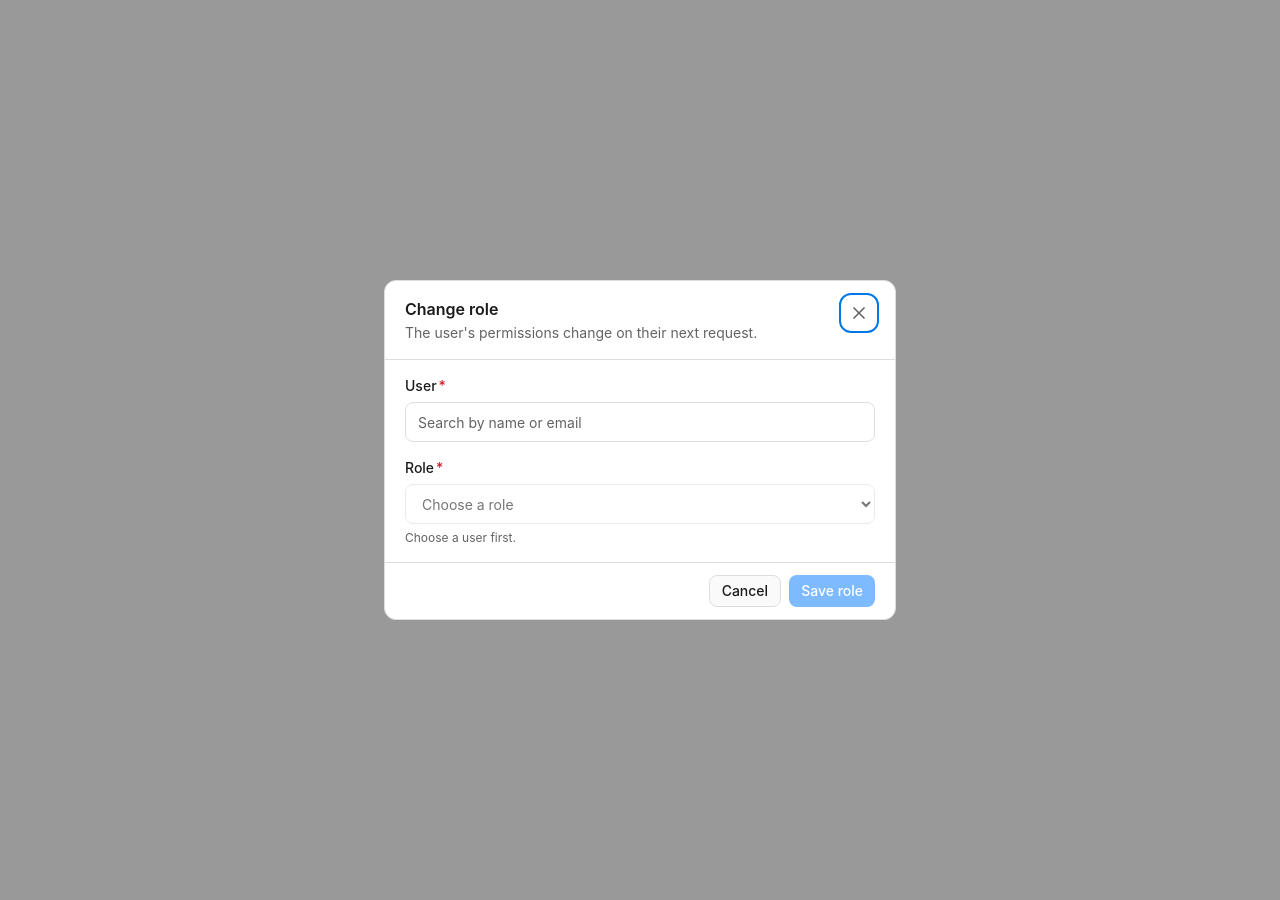
Test: ChangeRoleModal › says so when nothing matches what was typed
Click the search field labelled "User*": (640,422) [405,402,875,442]
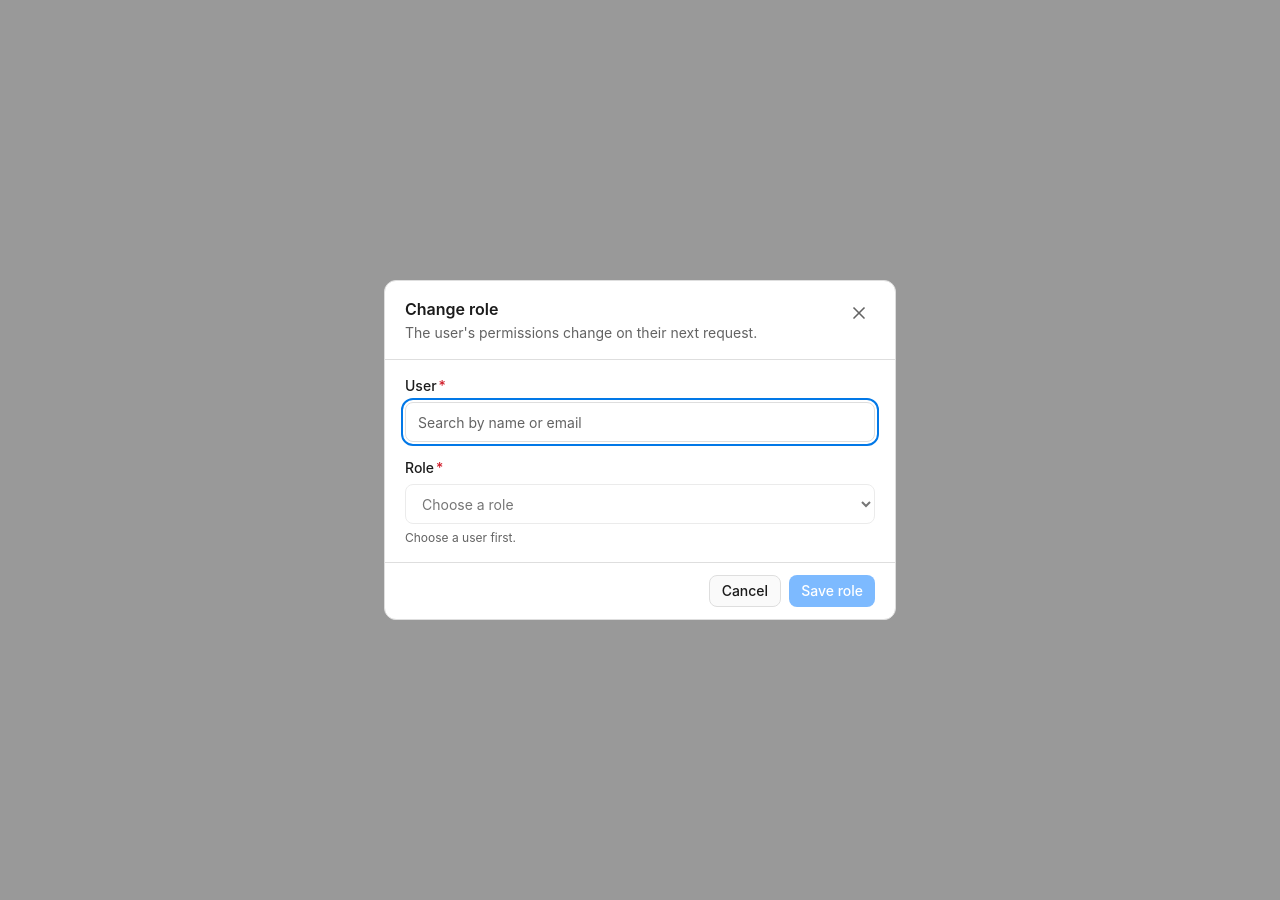
Type keys "nobody@example.com"
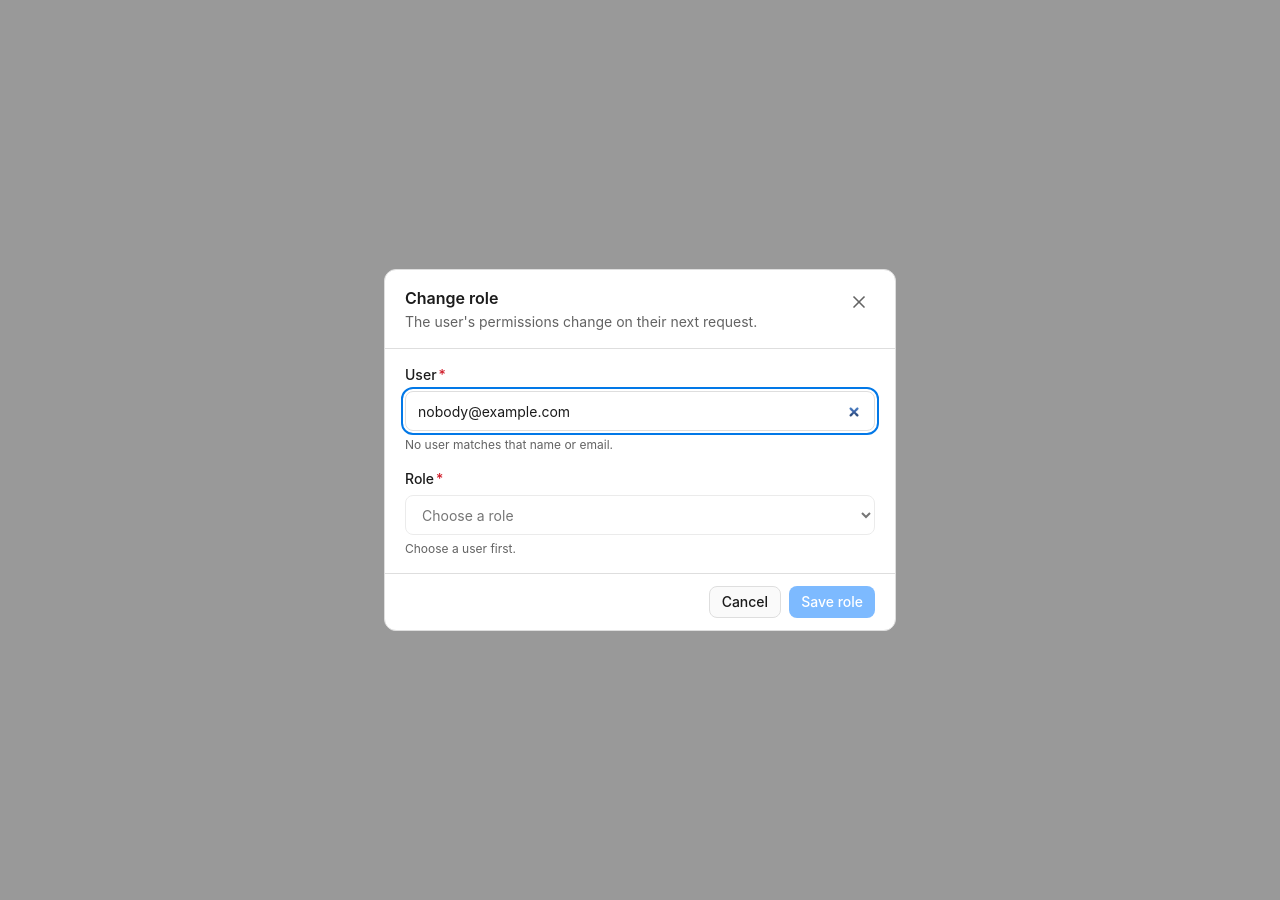
Expected: the text "No user matches that name or email." is shown, [405,437,613,452]
